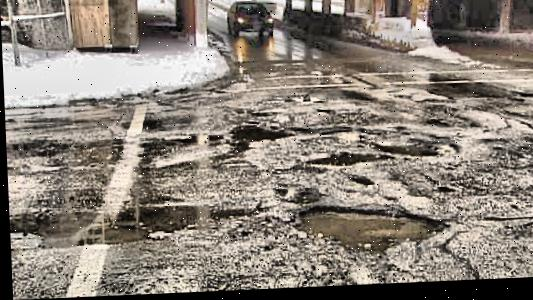pothole: (7, 201, 203, 252), (284, 202, 447, 261), (358, 136, 458, 167), (302, 152, 390, 171), (227, 121, 293, 146)
